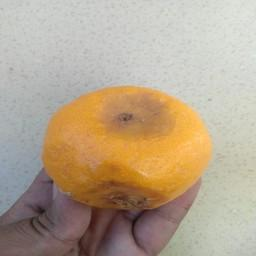Bad_orange: (45, 83, 212, 209)
